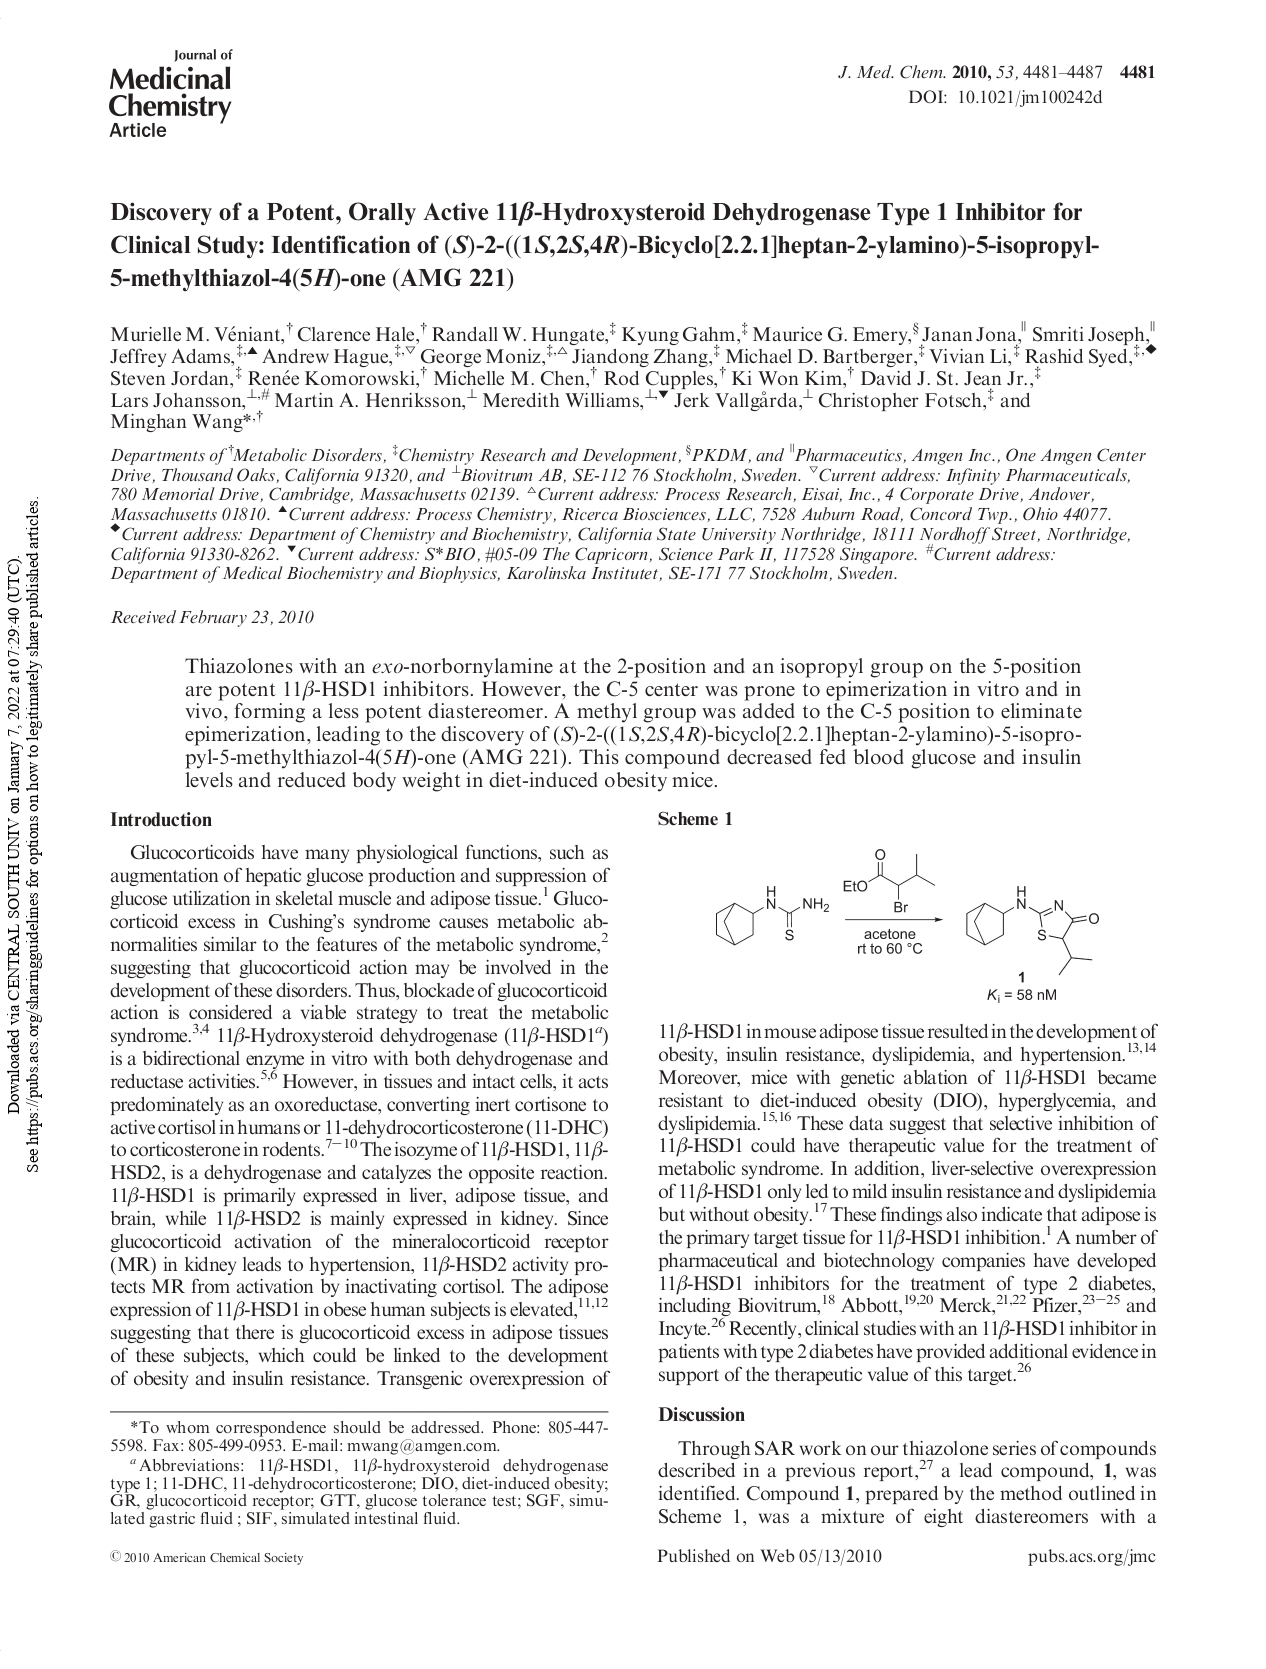exist_molecular: (964, 882, 1098, 979), (714, 886, 830, 950), (843, 846, 942, 916)
